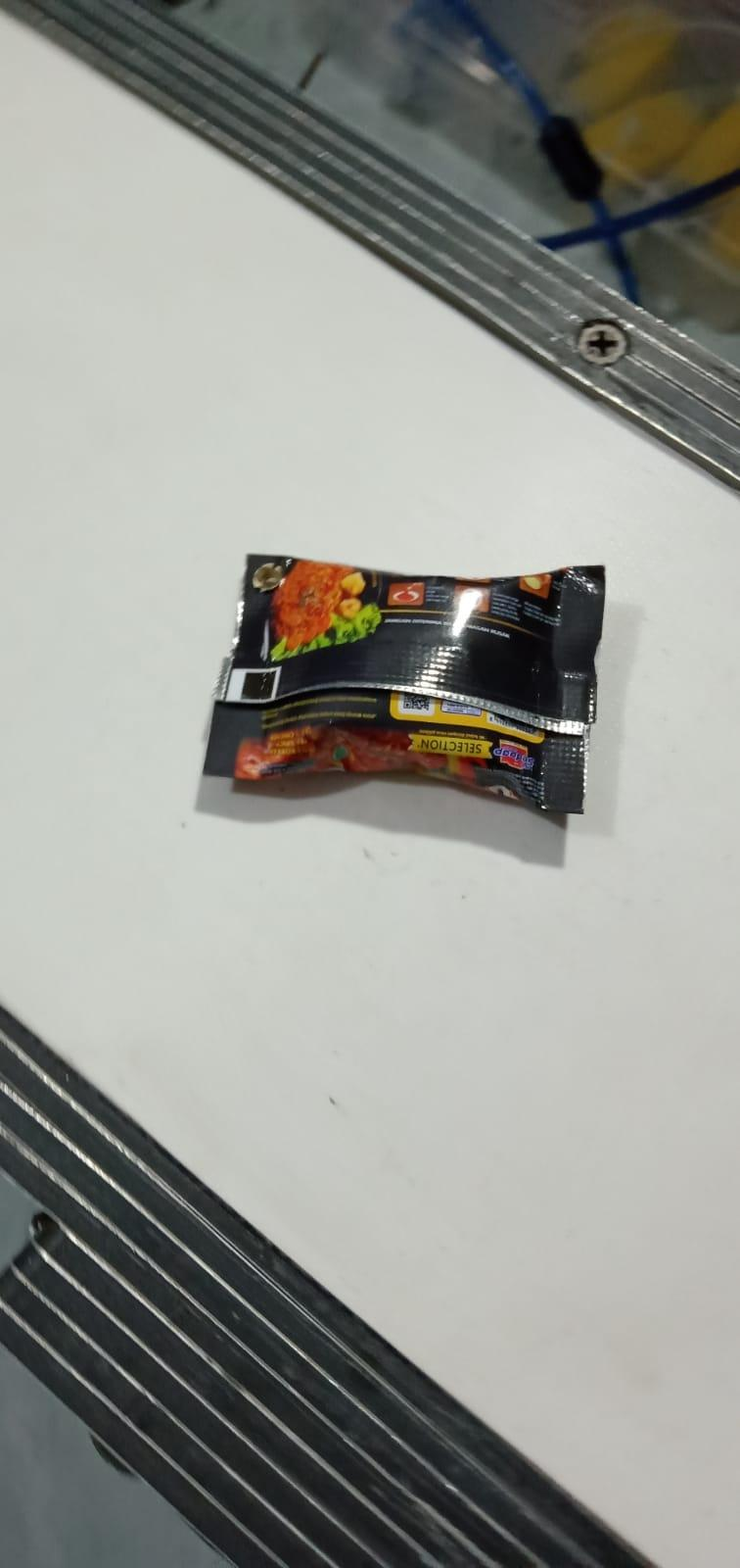Plastik: (197, 551, 606, 817)
